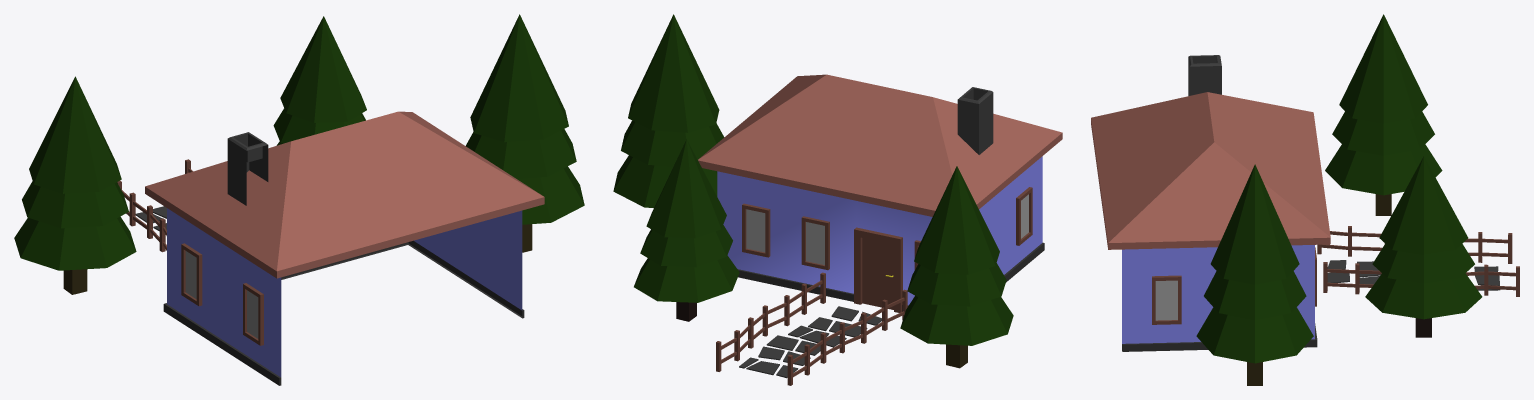
The model's file is revampedHouseVar2.fbx.
3 renders of one model, left to right at view 1: azimuth 30°, elevation 25°; view 2: azimuth 150°, elevation 25°; view 3: azimuth 270°, elevation 25°, orthographic. The views are drawn at different scales.
Parts seen in each view (by area): view 1: Roof, Tree1, Walls, Tree3, Tree2, WallFrame, Chimney, WindowFrames, Window, FenceRight; view 2: Roof, Walls, Tree1, Tree3, Tree2, Door, WindowFrames, Chimney, FenceRight, FenceLeft, Window, WallFrame (+6 smaller); view 3: Roof, Tree3, Tree1, Tree2, Walls, Chimney, FenceLeft, FenceRight, Window, WallFrame, WindowFrames, Stone1 (+2 smaller).
Part boxes in pixels (x1,y1,x2,y2): Roof: (145,111,544,278); Tree1: (14,76,136,294); Walls: (167,208,522,377); Tree3: (466,14,584,252); Tree2: (273,16,366,145); WallFrame: (163,240,524,385); Chimney: (227,132,268,205); WindowFrames: (181,243,263,345); Window: (185,251,258,338); FenceRight: (117,180,166,252); Roof: (698,74,1062,216); Walls: (717,156,1042,305); Tree1: (900,166,1013,368); Tree3: (613,14,724,207); Tree2: (634,139,739,321); Door: (854,227,902,312); WindowFrames: (742,187,1032,270); Chimney: (957,87,993,154); FenceRight: (787,289,907,385); FenceLeft: (716,272,825,371); Window: (746,194,1028,264); WallFrame: (737,242,1044,311); Roof: (1091,92,1330,249); Tree3: (1196,164,1313,385); Tree1: (1325,14,1442,215); Tree2: (1365,156,1482,337); Walls: (1122,245,1314,343); Chimney: (1188,55,1221,95); FenceLeft: (1323,262,1519,296); FenceRight: (1317,226,1512,263); Window: (1155,280,1177,320); WallFrame: (1122,323,1317,351); WindowFrames: (1152,247,1316,324); Stone1: (1327,260,1349,282).
Size of the model in its own units: 654 by 300 by 534.
